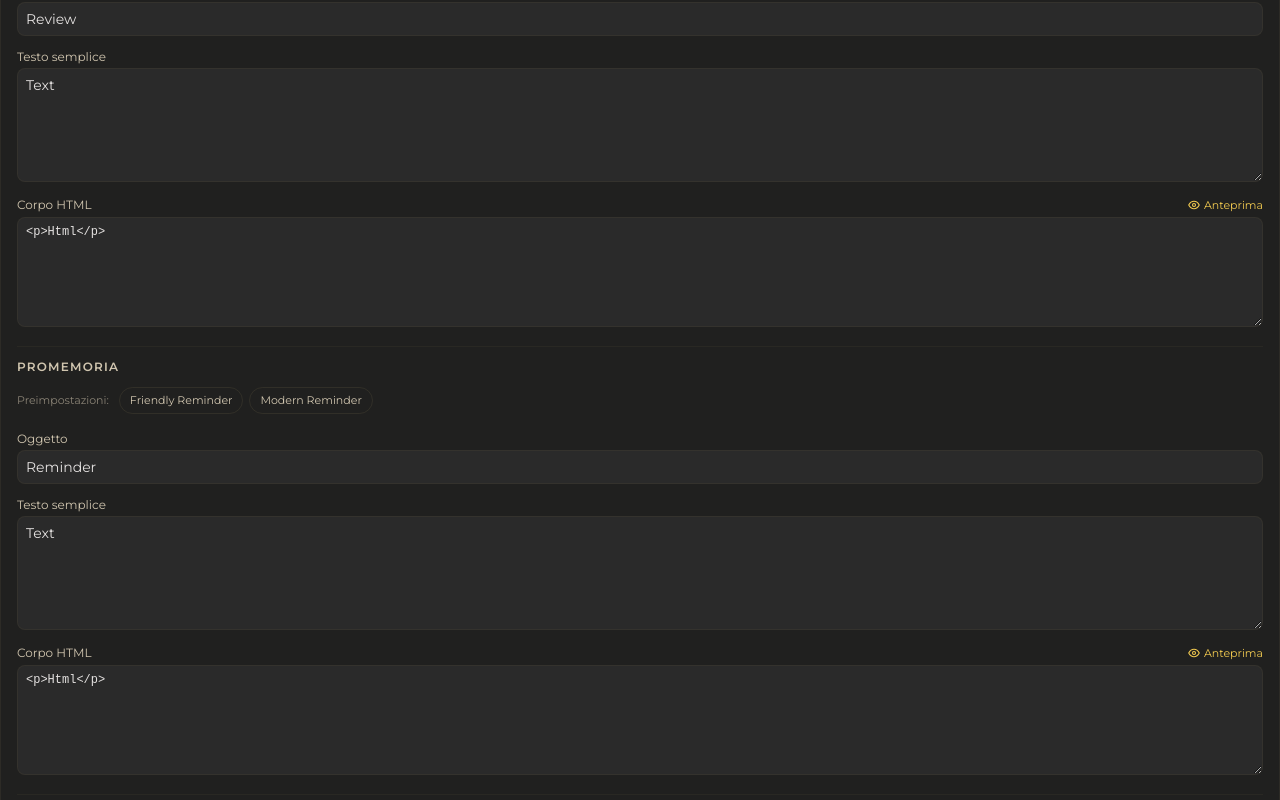
TenantDetail › loads reminder and cancellation email presets into their template fields
(page scrolled)
Click the button "Friendly Reminder" at (181, 400), box [119,387,244,414]
(page scrolled)
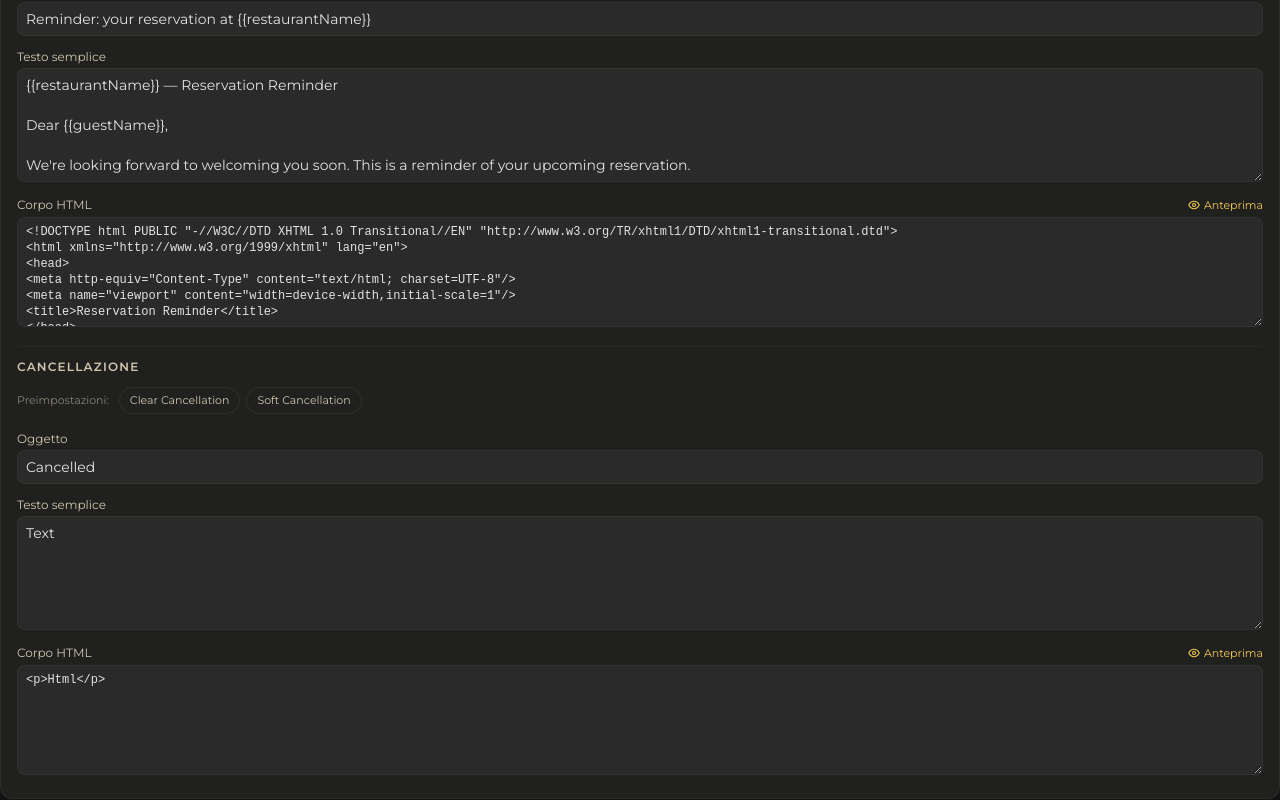
Expected: the 1st field labelled "Oggetto" holds "Reminder: your reservation at {{restaurantName}}", [17,2,1263,36]
Click the button "Clear Cancellation" at (180, 400), box [119,387,240,414]
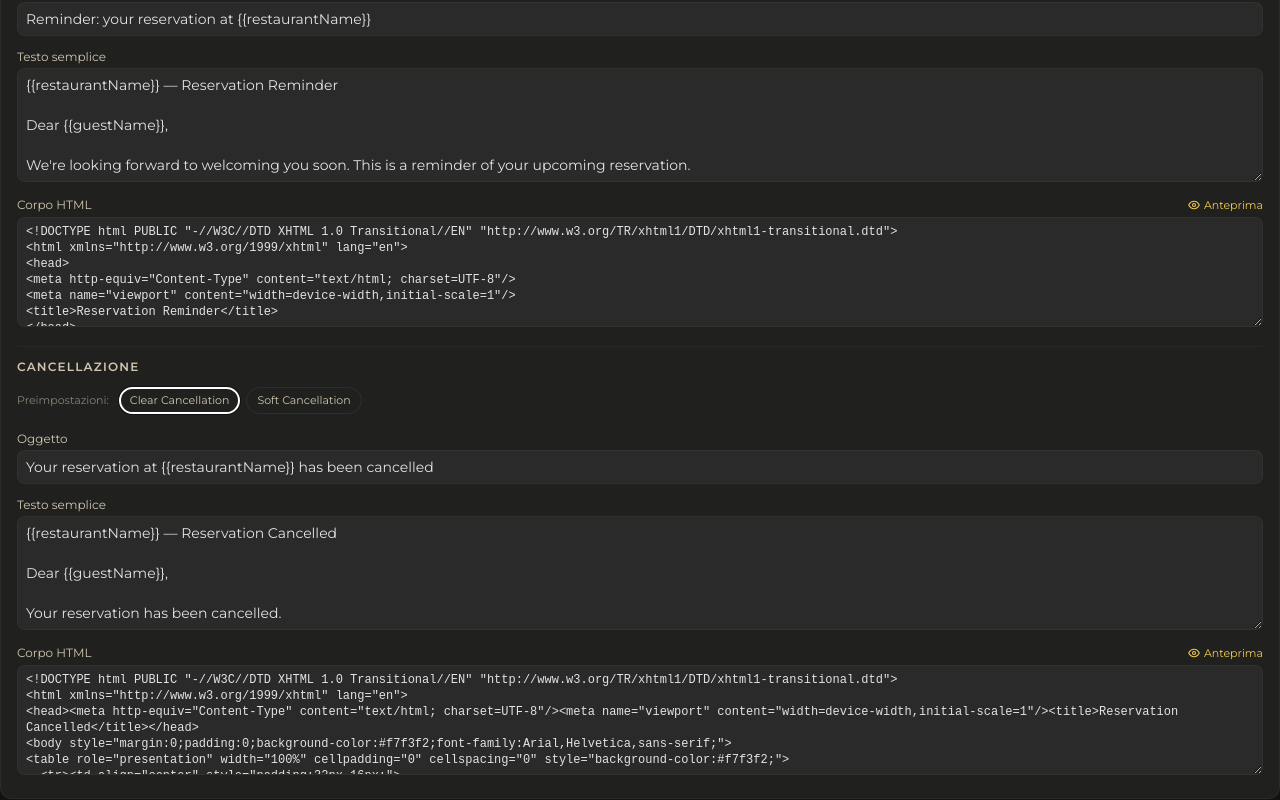
Expected: the 2nd field labelled "Oggetto" holds "Your reservation at {{restaurantName}} has been cancelled", [17,450,1263,484]
